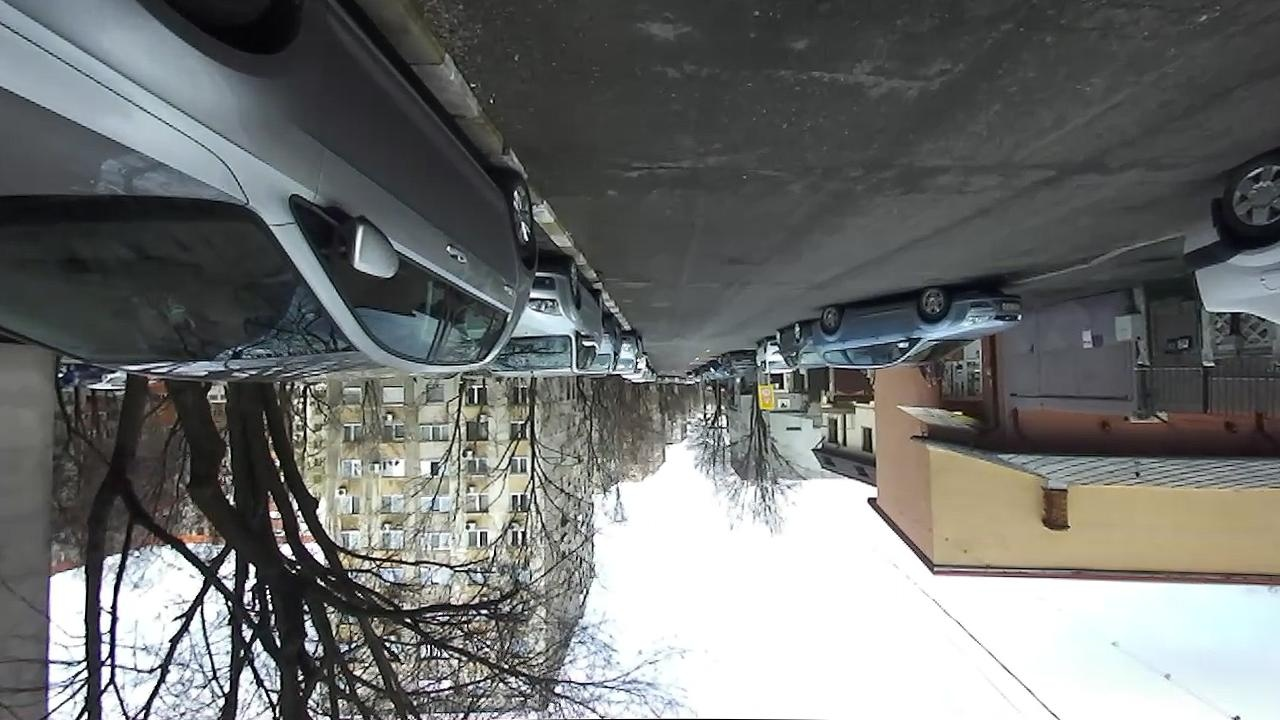pothole: (617, 154, 706, 179)
